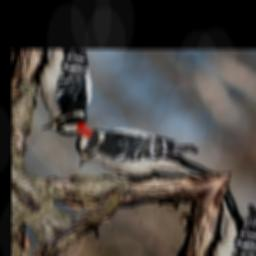Woodpecker: (58, 88, 221, 233)
